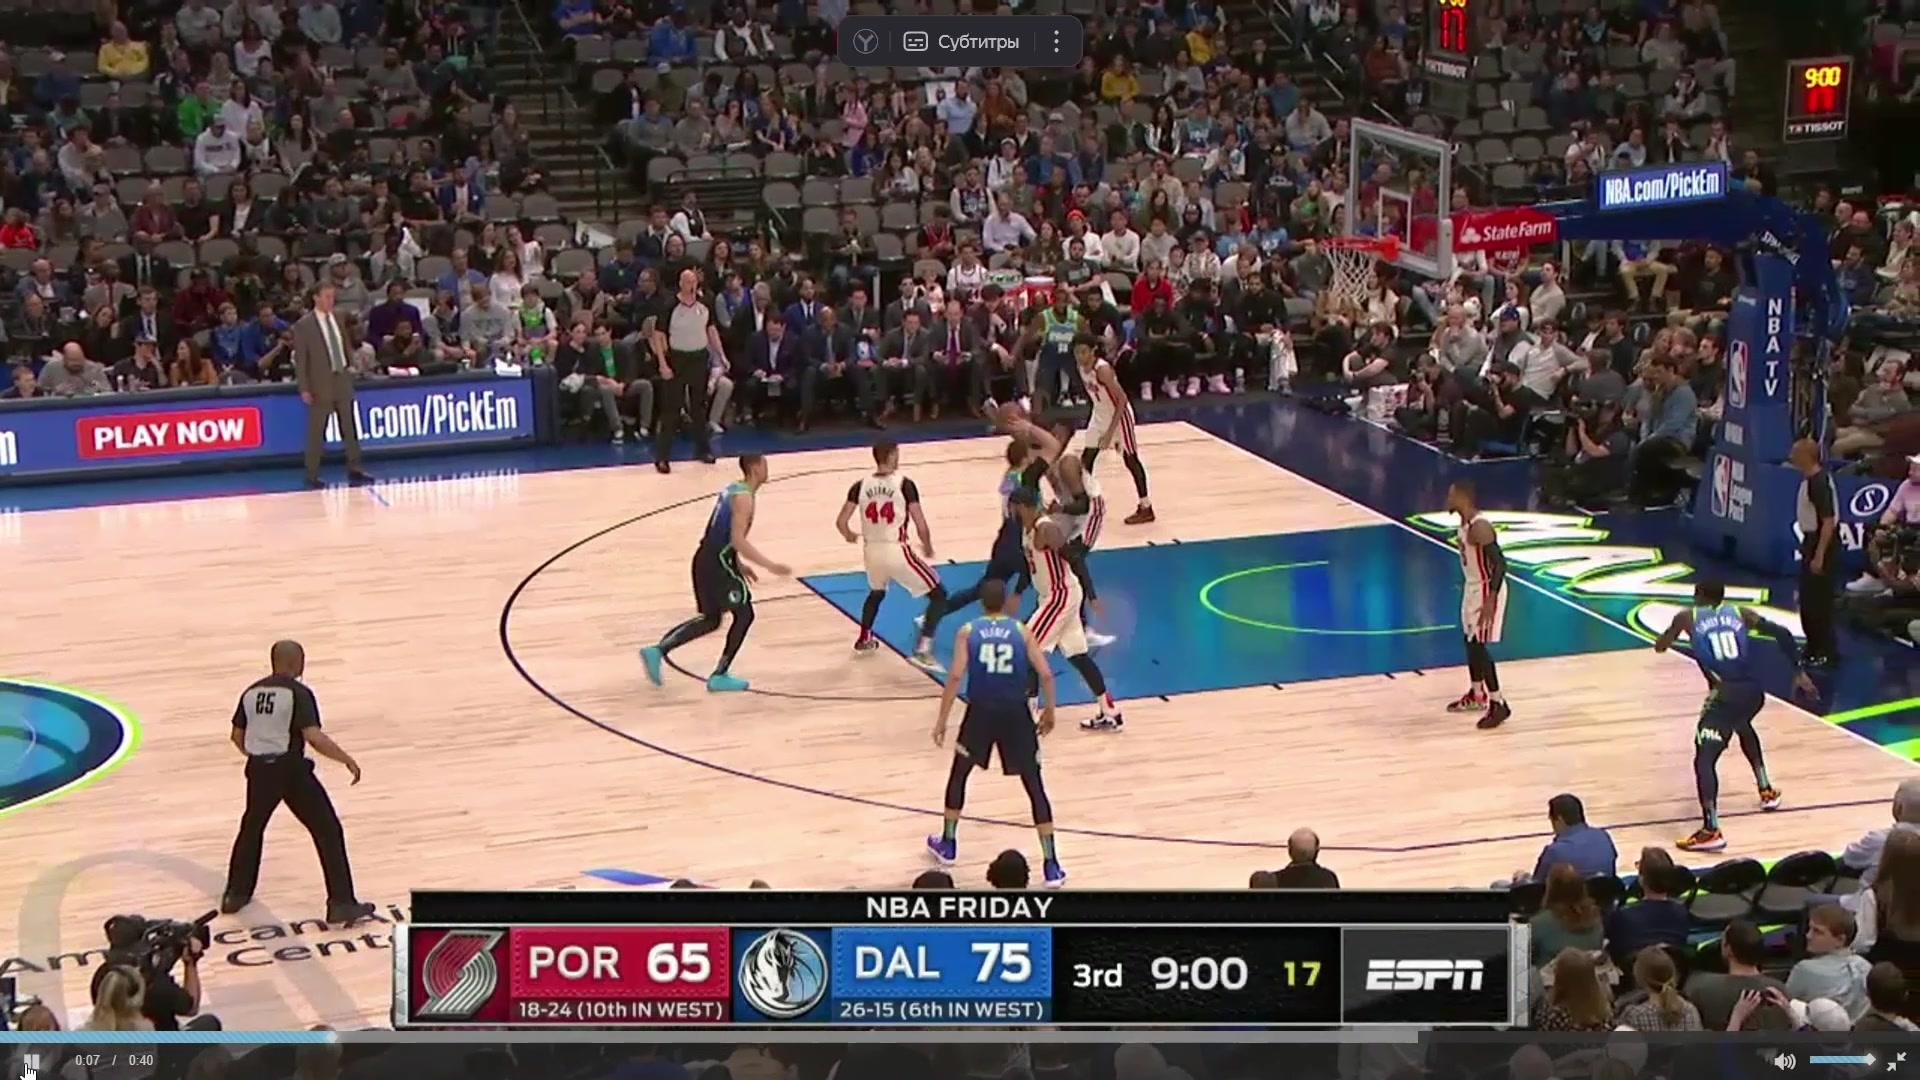foul: (973, 397, 1125, 607)
